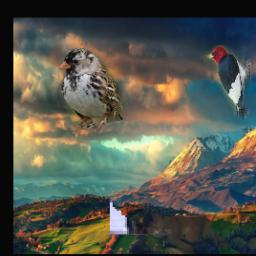Crow: (110, 59, 175, 235)
Sparrow: (58, 48, 123, 133)
Woodpecker: (203, 46, 251, 121)
